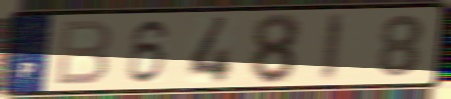4: (184, 14, 236, 85)
6: (127, 18, 170, 85)
8: (248, 11, 303, 87), (376, 13, 427, 80)
B: (52, 18, 115, 88)
I: (318, 11, 347, 84)
